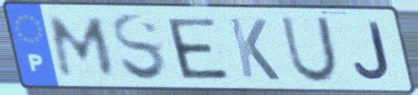E: (162, 16, 233, 82)
J: (351, 19, 393, 82)
K: (226, 15, 284, 83)
M: (47, 14, 119, 79)
S: (109, 11, 171, 85)
U: (278, 15, 342, 86)
